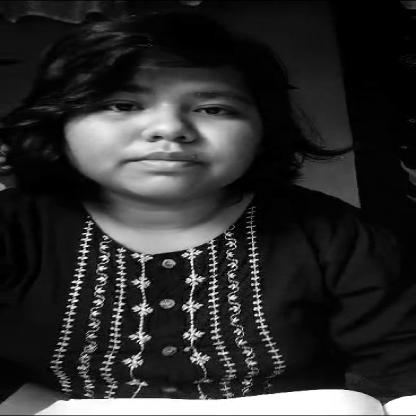Normal: (38, 33, 298, 205)
